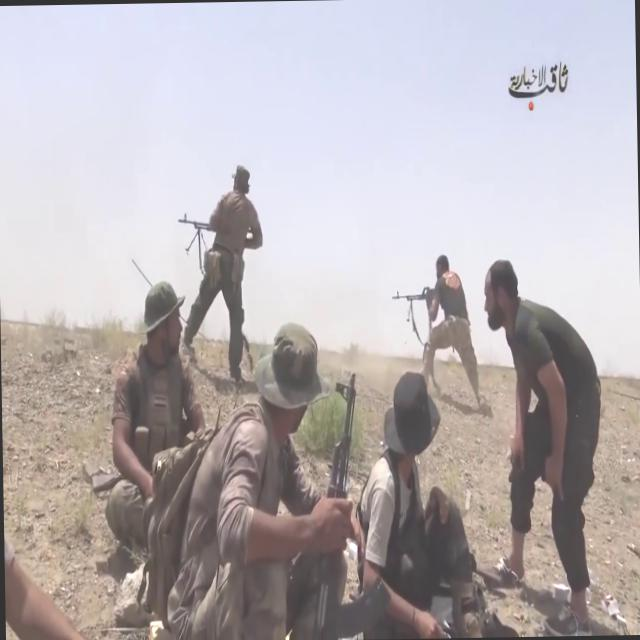long weapon: (296, 362, 394, 639), (384, 280, 444, 322)
